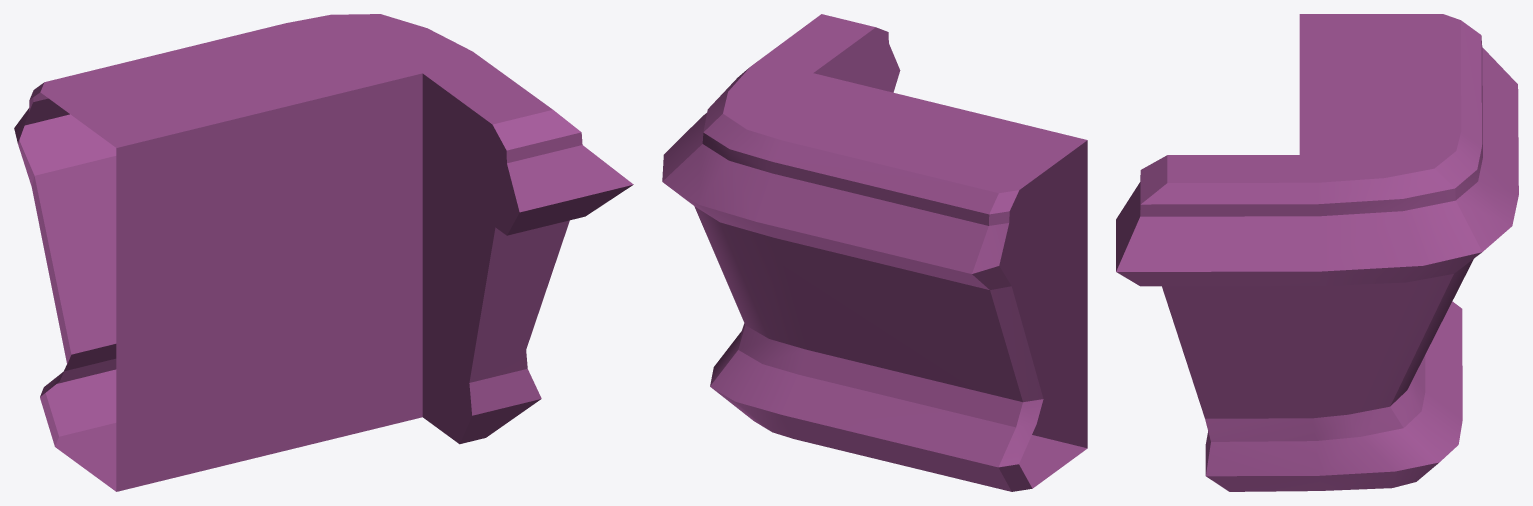
The model's file is obj_rewards_carbumpersidepart01.fbx.
3 renders of one model, left to right at view 1: azimuth 30°, elevation 25°; view 2: azimuth 150°, elevation 25°; view 3: azimuth 270°, elevation 25°, orthographic. The views are drawn at different scales.
Parts seen in each view (by area): view 1: cb_part1_lp.004; view 2: cb_part1_lp.004; view 3: cb_part1_lp.004.
Part boxes in pixels (x1=…): cb_part1_lp.004: x1=14, y1=14, x2=633, y2=491; cb_part1_lp.004: x1=662, y1=14, x2=1087, y2=491; cb_part1_lp.004: x1=1116, y1=14, x2=1518, y2=491.
Bounding box in the file's own units: 2.48 × 1.94 × 2.18.
